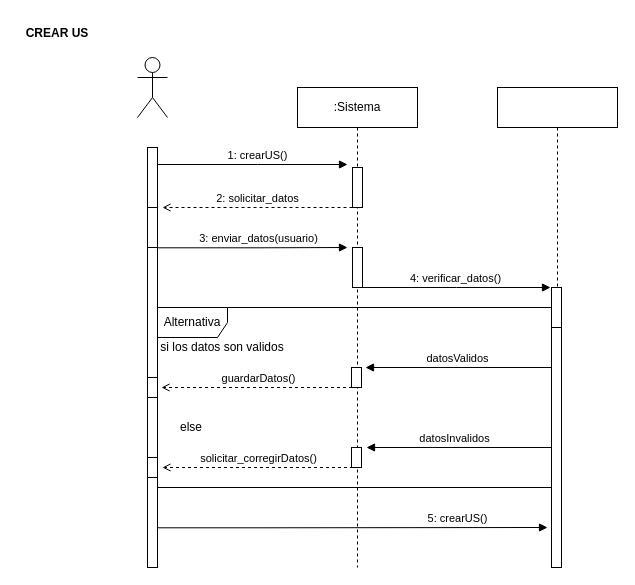
Some shapes in this 635 by 585 pixel diagram are drawn without their labels. The shapes that lost their labels are listed below. From the top down, each one's centre as x and y in pixels, then its label:
the point at 152,87: PO/SM
the point at 557,327: :UserStory
